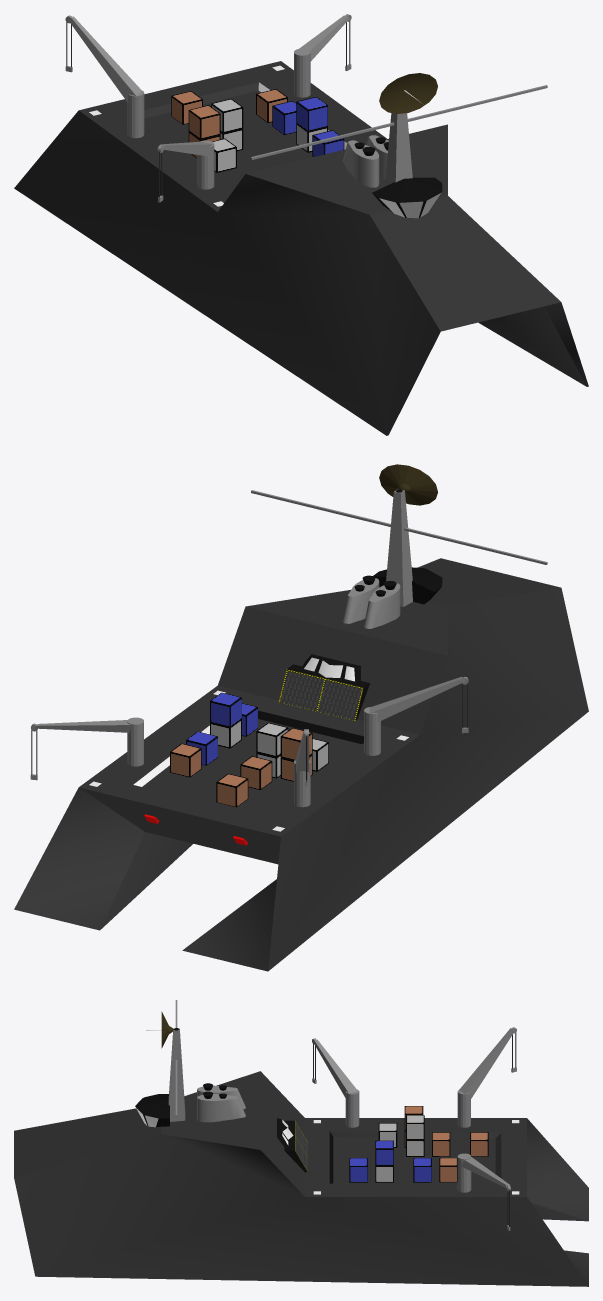
The model's file is Boaty_McBoatface.FBX.
3 renders of one model, top to bottom at view 1: azimuth 30°, elevation 25°; view 2: azimuth 150°, elevation 25°; view 3: azimuth 270°, elevation 25°, orthographic. The views are drawn at different scales.
Visible parts, largest first — view 1: M_Hull, M_Mask, SBA_Crane, M_Dish, PA_Crane, SBF_Crane; view 2: M_Hull, M_Mask, SBF_Crane, PA_Crane, M_Dish, SBA_Crane; view 3: M_Hull, SBA_Crane, M_Mask, SBF_Crane, PA_Crane.
Boxes of the visible parts, x1,y1,x2,y2 form: M_Hull: [14, 61, 588, 435]; M_Mask: [251, 85, 547, 186]; SBA_Crane: [65, 15, 144, 138]; M_Dish: [379, 73, 437, 113]; PA_Crane: [294, 14, 351, 97]; SBF_Crane: [157, 140, 214, 202]; M_Hull: [14, 558, 588, 971]; M_Mask: [251, 489, 547, 606]; SBF_Crane: [364, 677, 468, 755]; PA_Crane: [30, 717, 143, 780]; M_Dish: [379, 464, 437, 505]; SBA_Crane: [294, 729, 310, 807]; M_Hull: [14, 1071, 588, 1286]; SBA_Crane: [457, 1027, 516, 1127]; M_Mask: [168, 1000, 185, 1121]; SBF_Crane: [312, 1038, 359, 1127]; PA_Crane: [457, 1153, 510, 1230].
Bounding box in the file's own units: 7.8 × 6.59 × 15.41.
10 materials, 4 textured.
